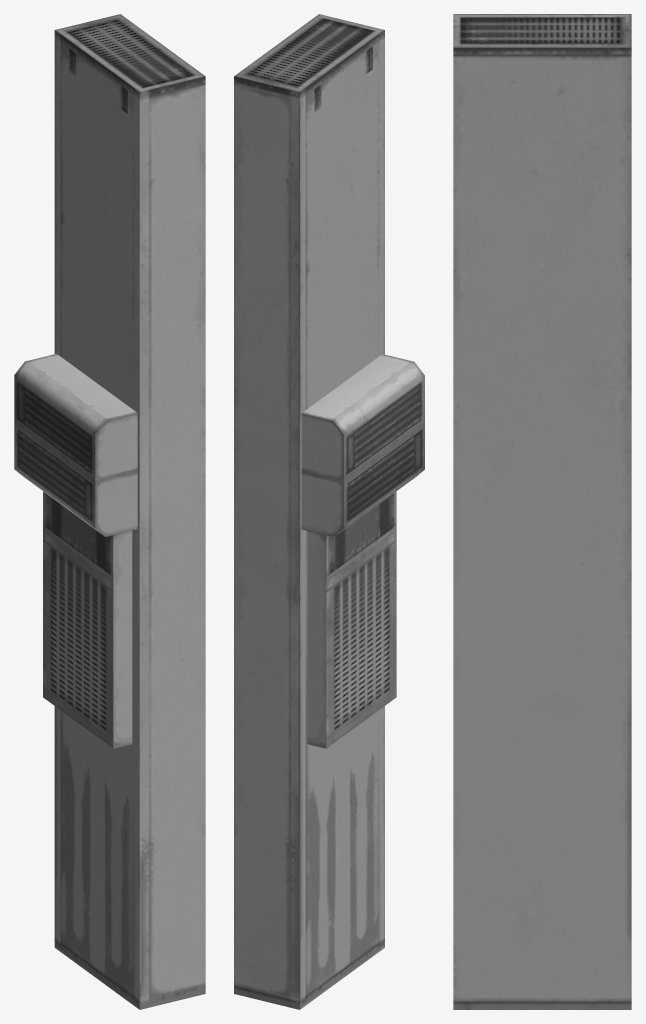
Rendered from CP_Ventilation_Pipe_2m_02.fbx.
3 renders of one model, left to right at view 1: azimuth 30°, elevation 25°; view 2: azimuth 150°, elevation 25°; view 3: azimuth 270°, elevation 25°, orthographic. The views are drawn at different scales.
Visible parts, largest first — view 1: CP_Ventilation_Pipe_2m_02; view 2: CP_Ventilation_Pipe_2m_02; view 3: CP_Ventilation_Pipe_2m_02.
Boxes of the visible parts, x1,y1,x2,y2 form: CP_Ventilation_Pipe_2m_02: (14,14,205,1009); CP_Ventilation_Pipe_2m_02: (234,14,424,1009); CP_Ventilation_Pipe_2m_02: (453,14,631,1009).
Bounding box in the file's own units: 24.64 × 200 × 33.59.
